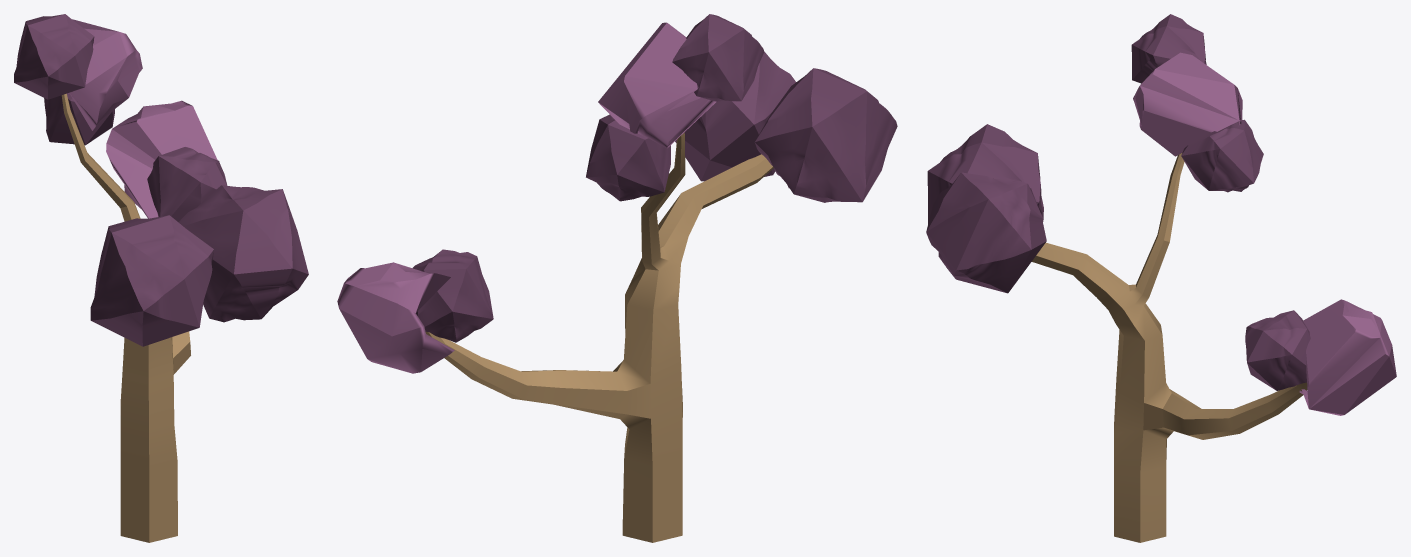
The model's file is SM_Tree_1.fbx.
3 renders of one model, left to right at view 1: azimuth 30°, elevation 25°; view 2: azimuth 150°, elevation 25°; view 3: azimuth 270°, elevation 25°, orthographic. The views are drawn at different scales.
Visible parts, largest first — view 1: polySurface28; view 2: polySurface28; view 3: polySurface28.
Part boxes in pixels (bbox=[...]): polySurface28: bbox=[14, 14, 308, 542]; polySurface28: bbox=[337, 14, 897, 542]; polySurface28: bbox=[926, 14, 1396, 542].
Size of the model in its own units: 43.79 by 72.69 by 65.48.
